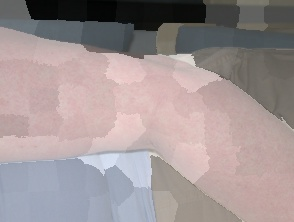SJS-TEN: (0, 17, 294, 222)
